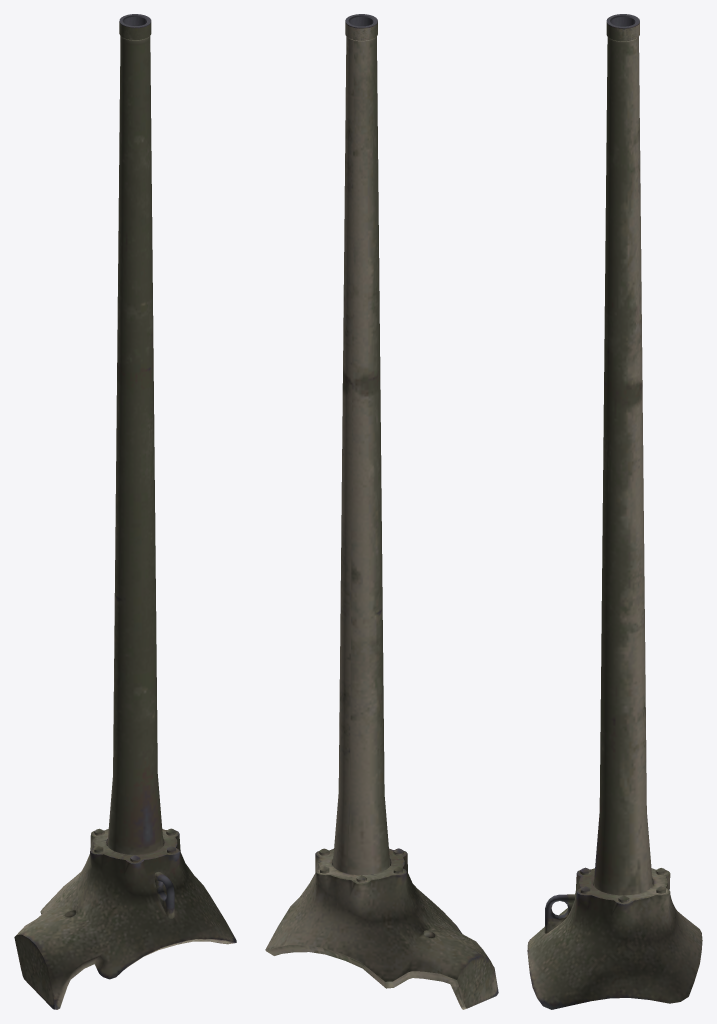
The model's file is Gun_01.glb.
The picture shows the model from 3 angles, left to right: view 1: azimuth 30°, elevation 25°; view 2: azimuth 150°, elevation 25°; view 3: azimuth 270°, elevation 25°; orthographic projection. The views are drawn at different scales.
Visible parts, largest first — view 1: set_0_group_0; view 2: set_0_group_0; view 3: set_0_group_0.
Boxes of the visible parts, <box> form: set_0_group_0: <box>14,14,236,1009</box>; set_0_group_0: <box>265,14,498,1009</box>; set_0_group_0: <box>527,14,702,1009</box>.
Size of the model in its own units: 0.8755 by 4.47 by 0.7159.
Materials: 1 (1 with a texture image).
